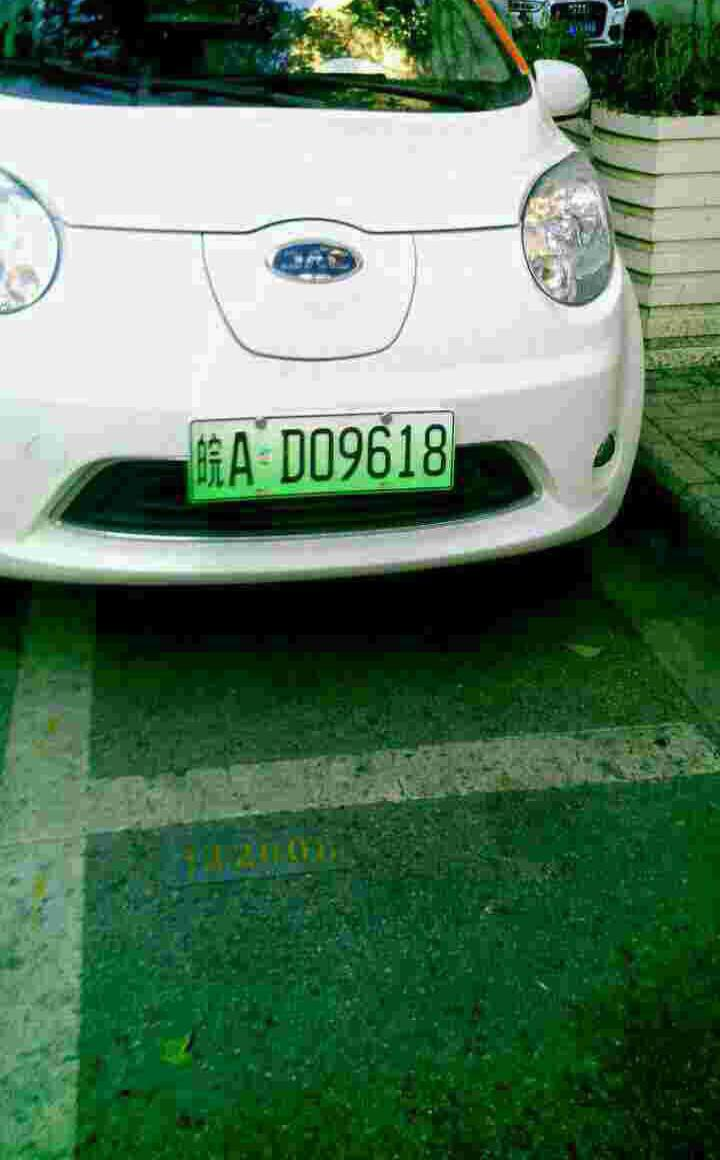car: (185, 408, 465, 511)
